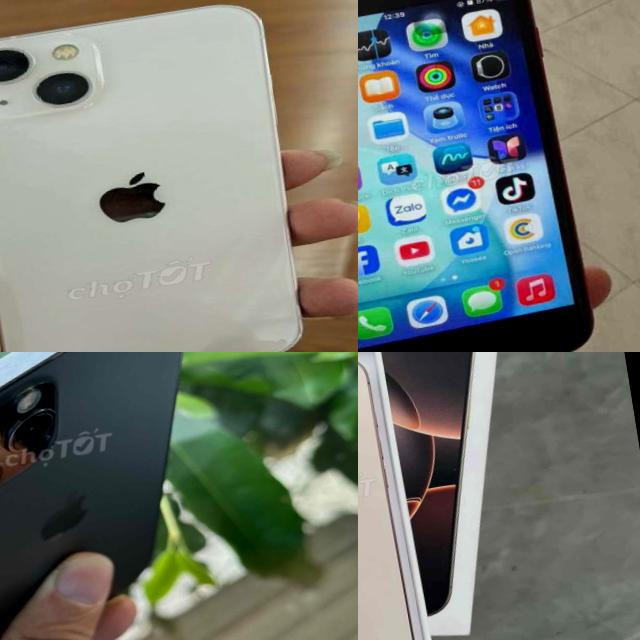gen_12_13: (0, 0, 323, 352), (0, 352, 251, 640)
gen_16: (358, 352, 432, 640)
gen_7_8: (358, 0, 607, 352)
